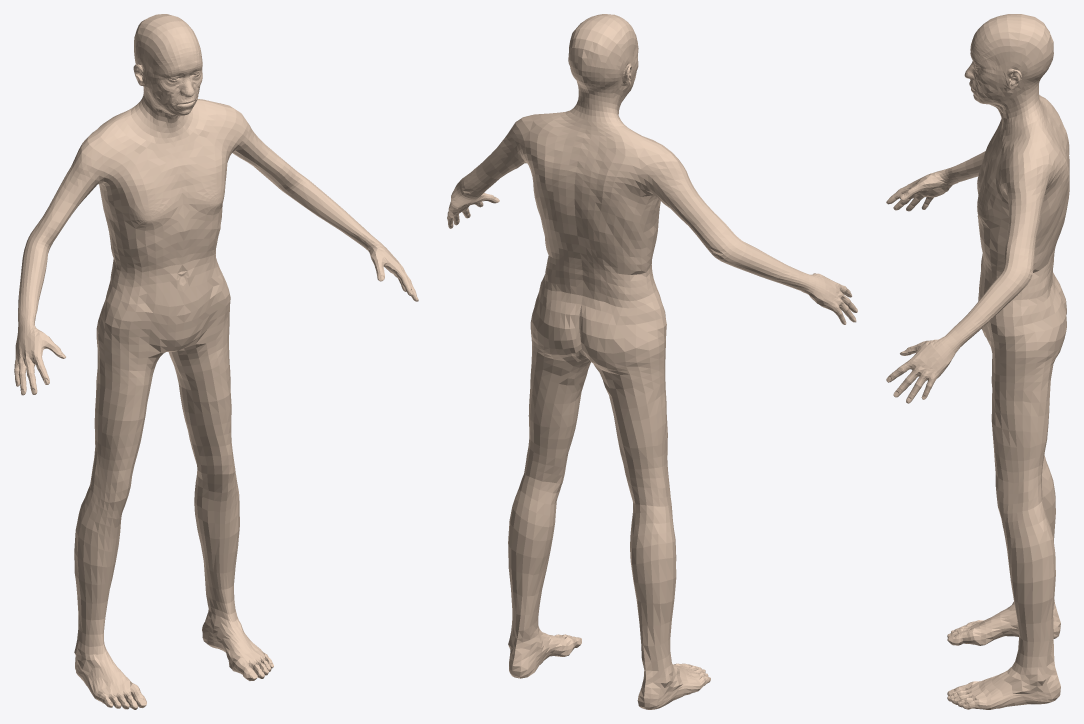
Rendered from male-older-lean-toned.glb.
3 views of the same model, side by side, from view 1: azimuth 30°, elevation 25°; view 2: azimuth 150°, elevation 25°; view 3: azimuth 270°, elevation 25° (orthographic).
Visible parts, largest first — view 1: world; view 2: world; view 3: world.
Part boxes in pixels (<box>): world: <box>14,14,418,709</box>; world: <box>447,14,857,709</box>; world: <box>886,14,1069,709</box>.
Bounding box in the file's own units: 1.22 × 1.93 × 0.4905.
